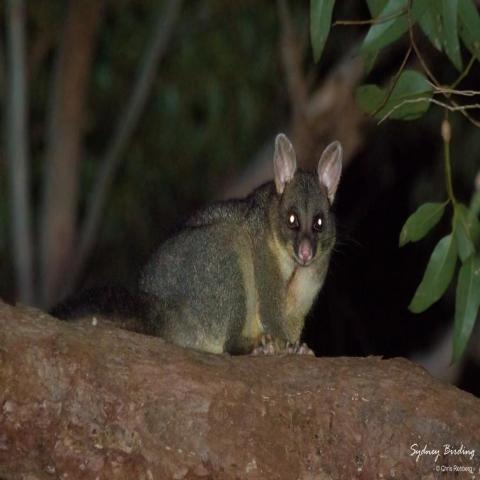small_animal: (94, 130, 344, 358)
